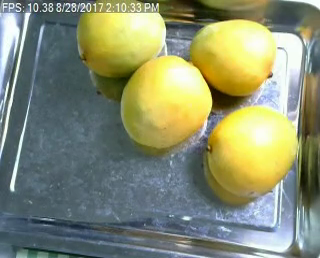Mango: (119, 56, 212, 146), (208, 105, 297, 195), (77, 1, 166, 78), (191, 21, 277, 95)
